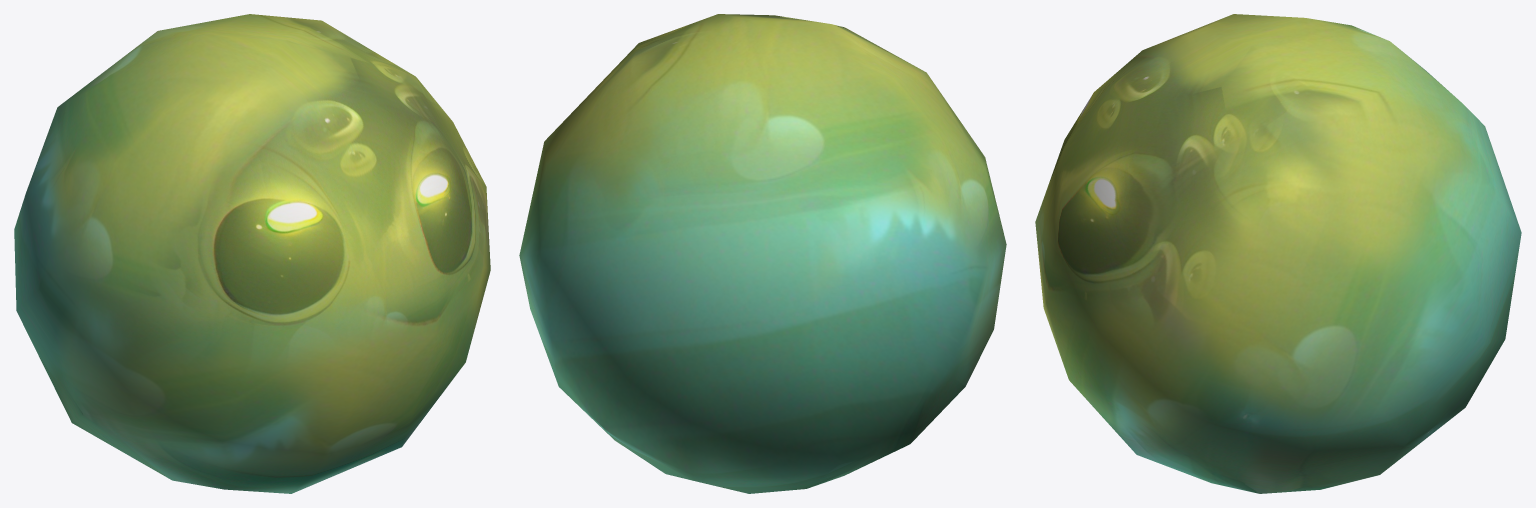
File: Slime1.glb
3 renders of one model, left to right at view 1: azimuth 30°, elevation 25°; view 2: azimuth 150°, elevation 25°; view 3: azimuth 270°, elevation 25°, orthographic.
Parts seen in each view (by area): view 1: Sphere; view 2: Sphere; view 3: Sphere.
Boxes of the visible parts, x1,y1,x2,y2 form: Sphere: (14, 14, 490, 493); Sphere: (519, 14, 1006, 493); Sphere: (1035, 14, 1521, 493).
Bounding box in the file's own units: 2.01 × 2 × 2.01.
1 material, 1 textured.
